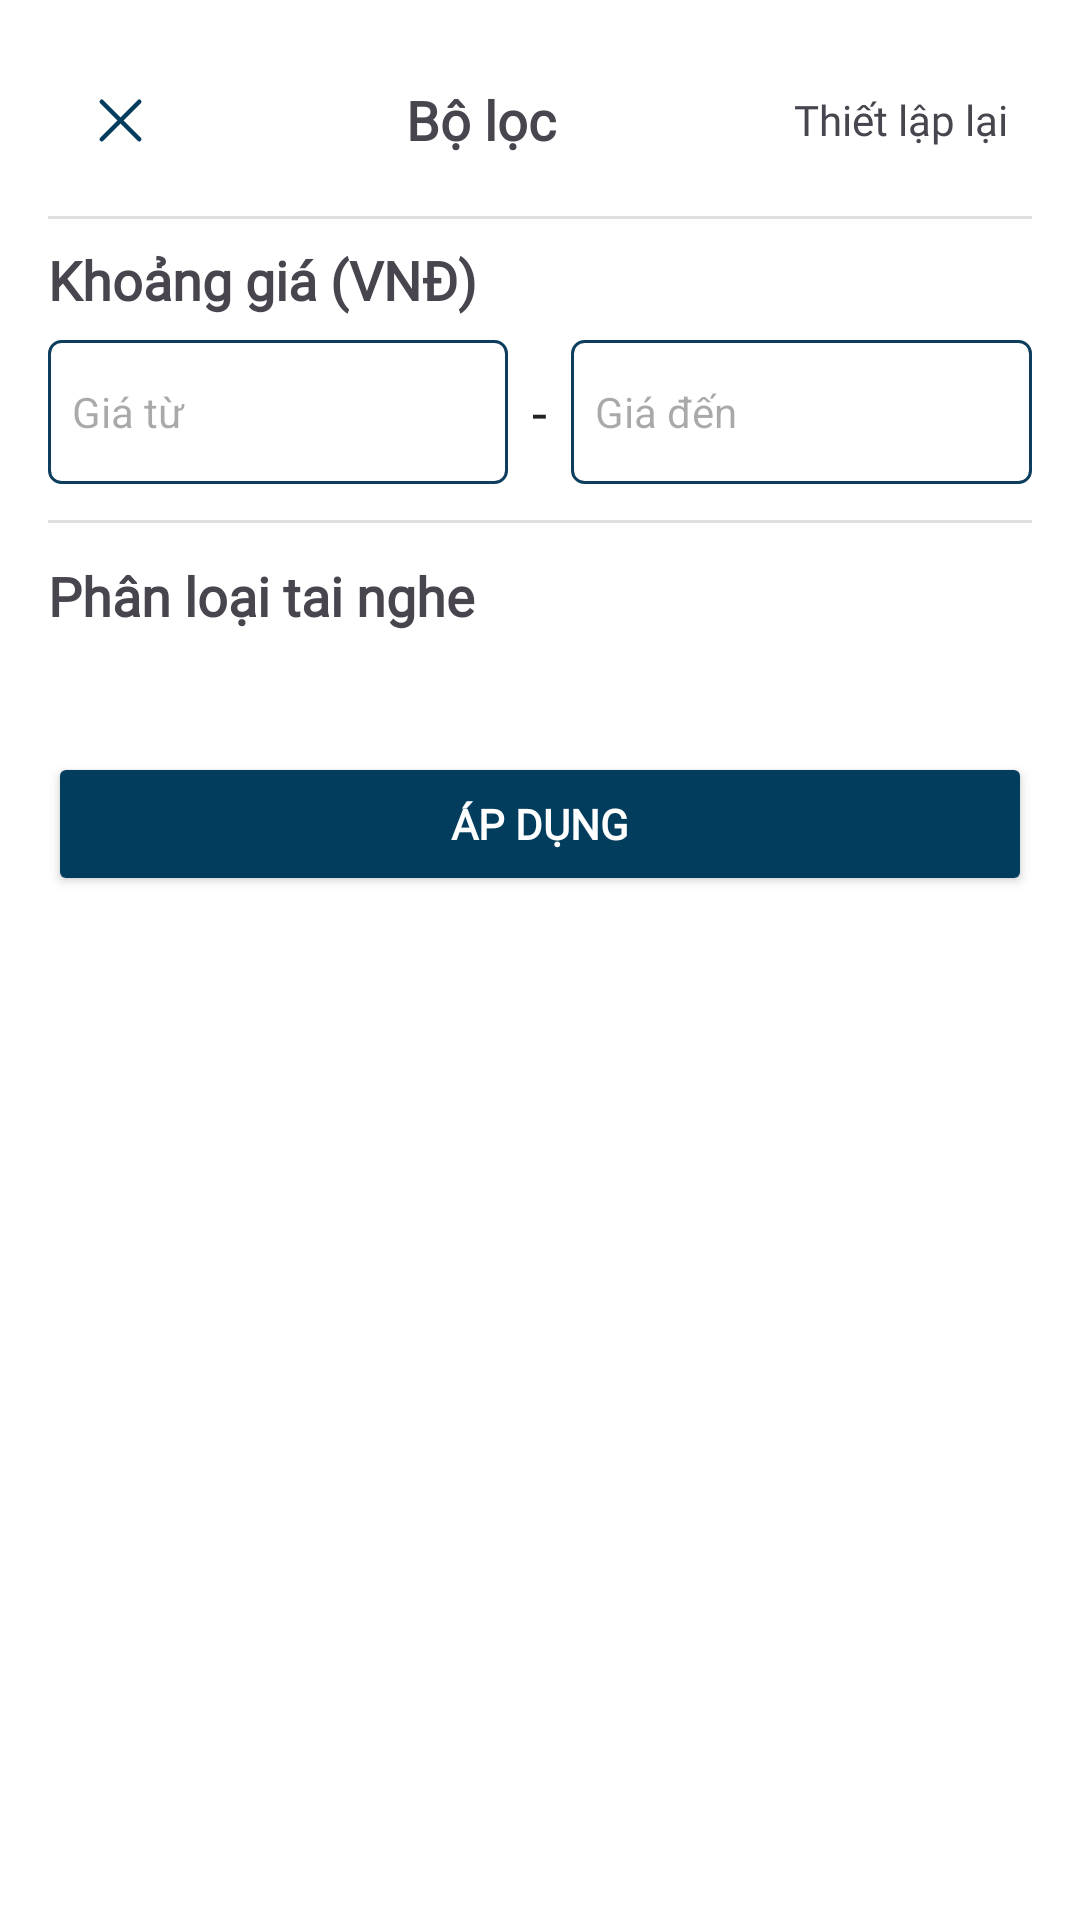

Locate icon controls on the screen. Image size 1080*1920, boxes as (x1, y1, x2, y2).
Close: (99, 99, 142, 142)
